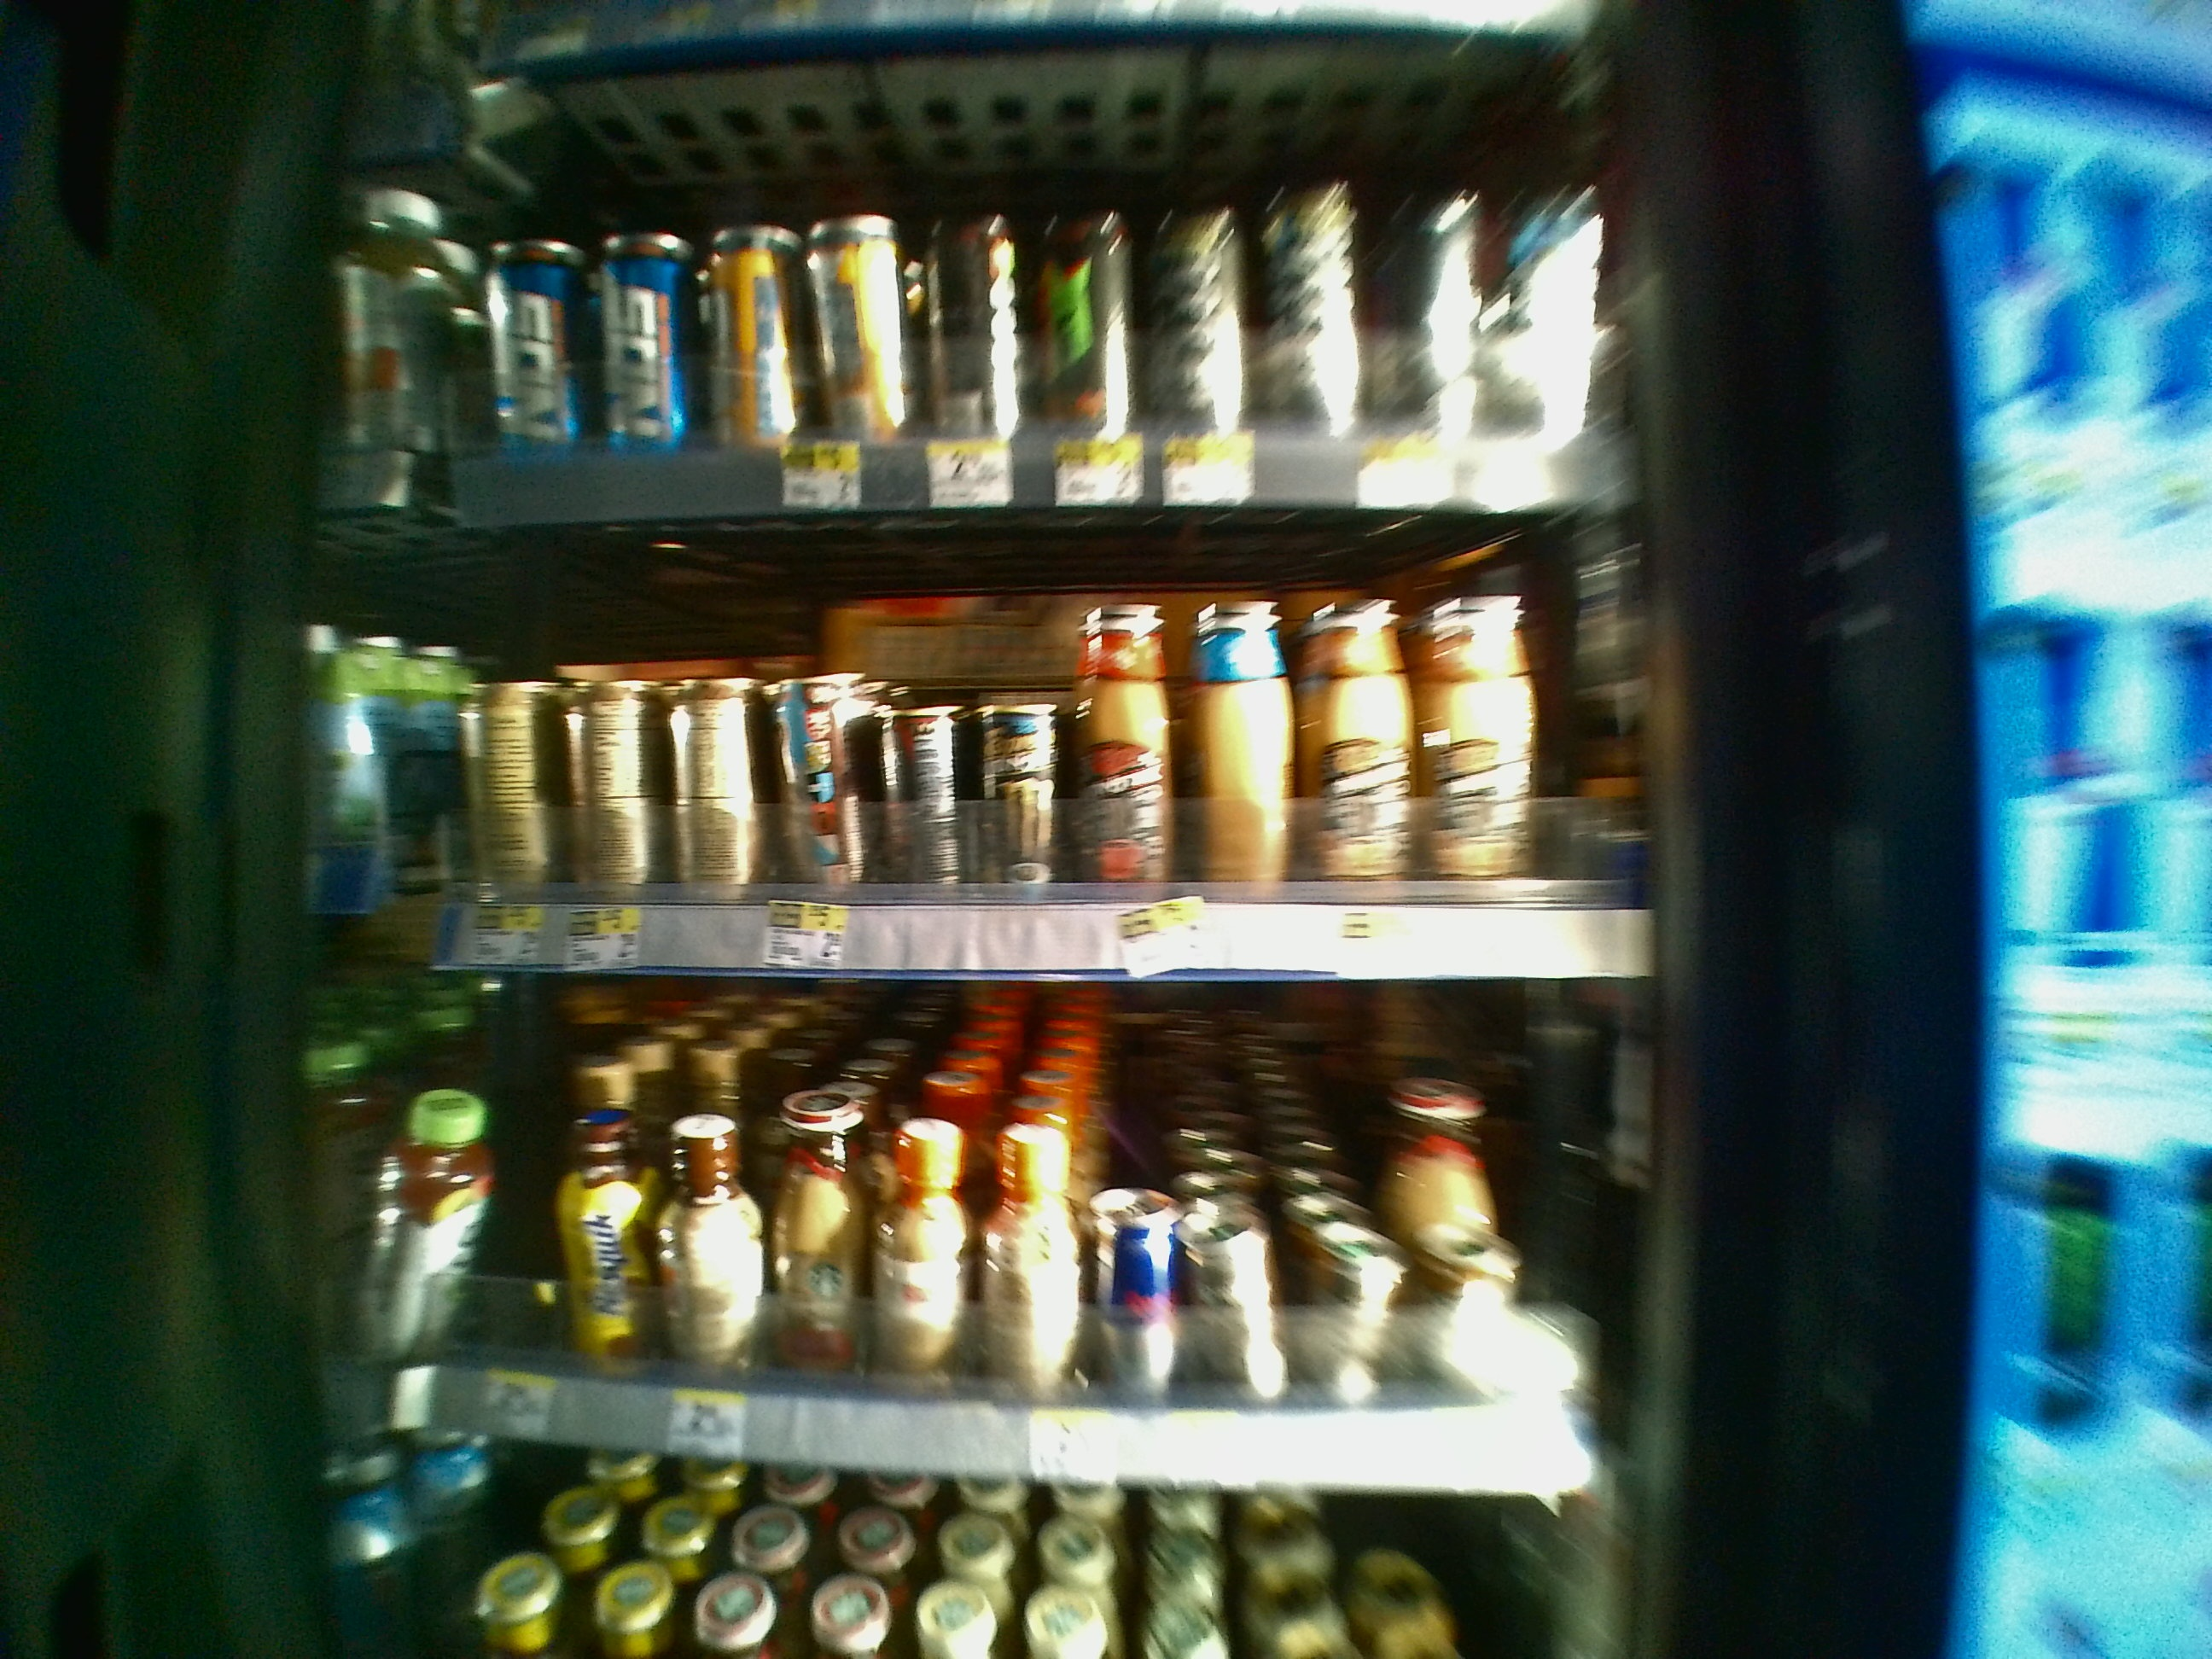shelf: (284, 979, 1689, 1483), (296, 514, 1686, 983)
